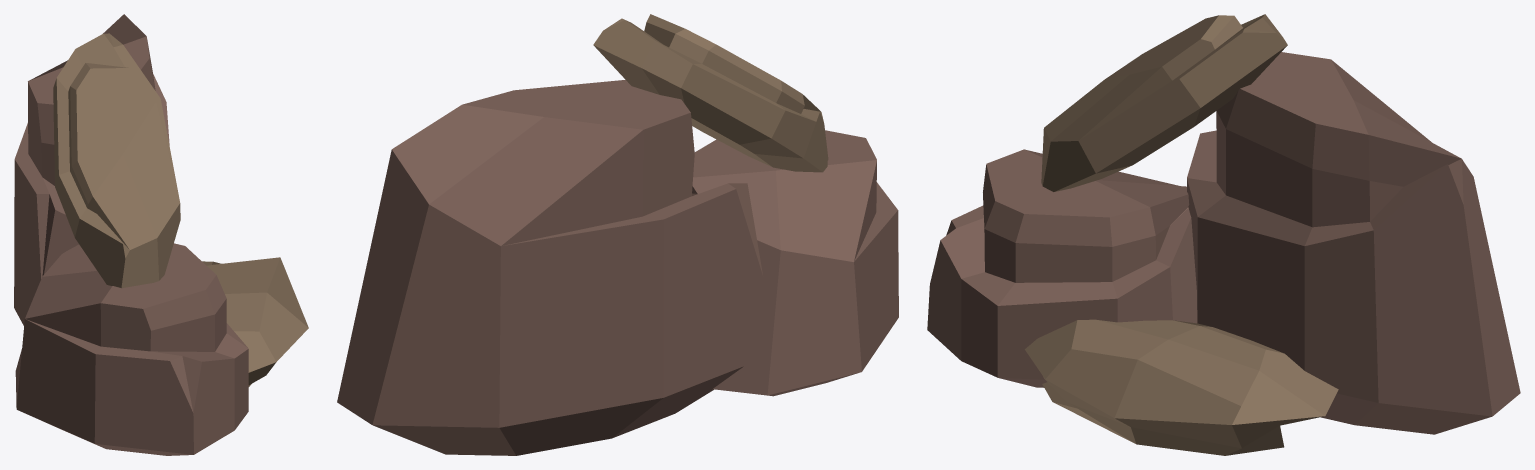
The model's file is stoneset4.fbx.
3 renders of one model, left to right at view 1: azimuth 30°, elevation 25°; view 2: azimuth 150°, elevation 25°; view 3: azimuth 270°, elevation 25°, orthographic. The views are drawn at different scales.
Visible parts, largest first — view 1: stone03.018; view 2: stone03.018; view 3: stone03.018.
Boxes of the visible parts, x1,y1,x2,y2 form: stone03.018: [14, 14, 308, 455]; stone03.018: [337, 14, 898, 455]; stone03.018: [927, 14, 1520, 455].
Size of the model in its own units: 2771 by 2853 by 4012.
